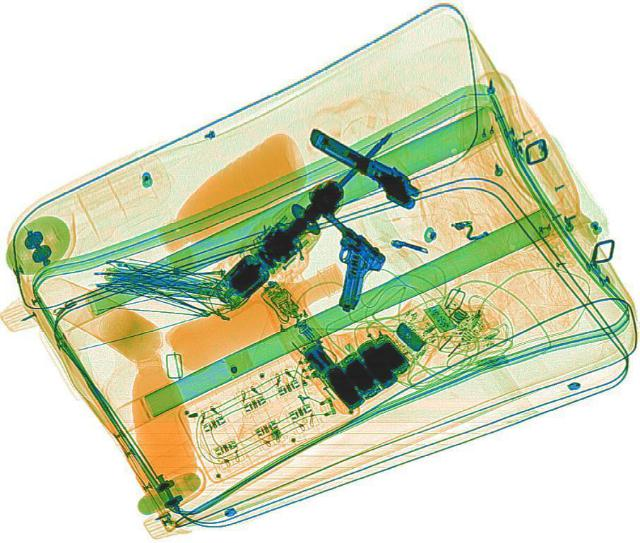Gun: (269, 205, 406, 312), (294, 121, 434, 211)
